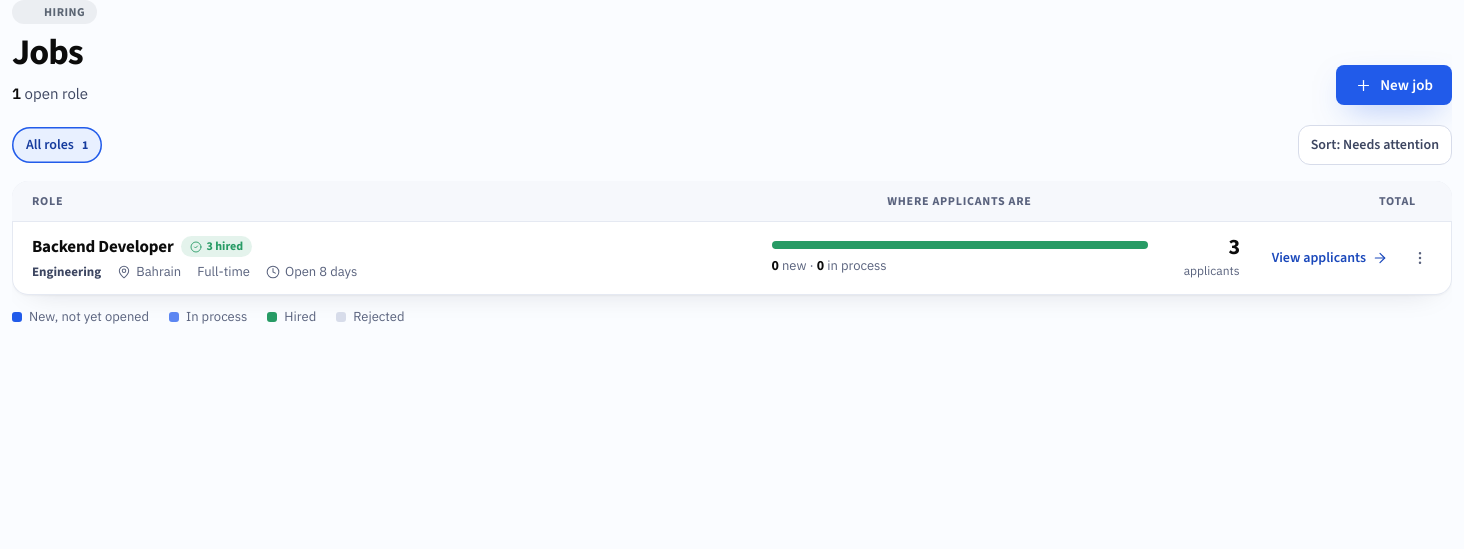
Scenario: JobsView › names every action instead of leaving six unlabelled icons
Press the mouse on the button named "Actions for Backend Developer" at [1420, 258], box x1=1404 y1=242 x2=1436 y2=274
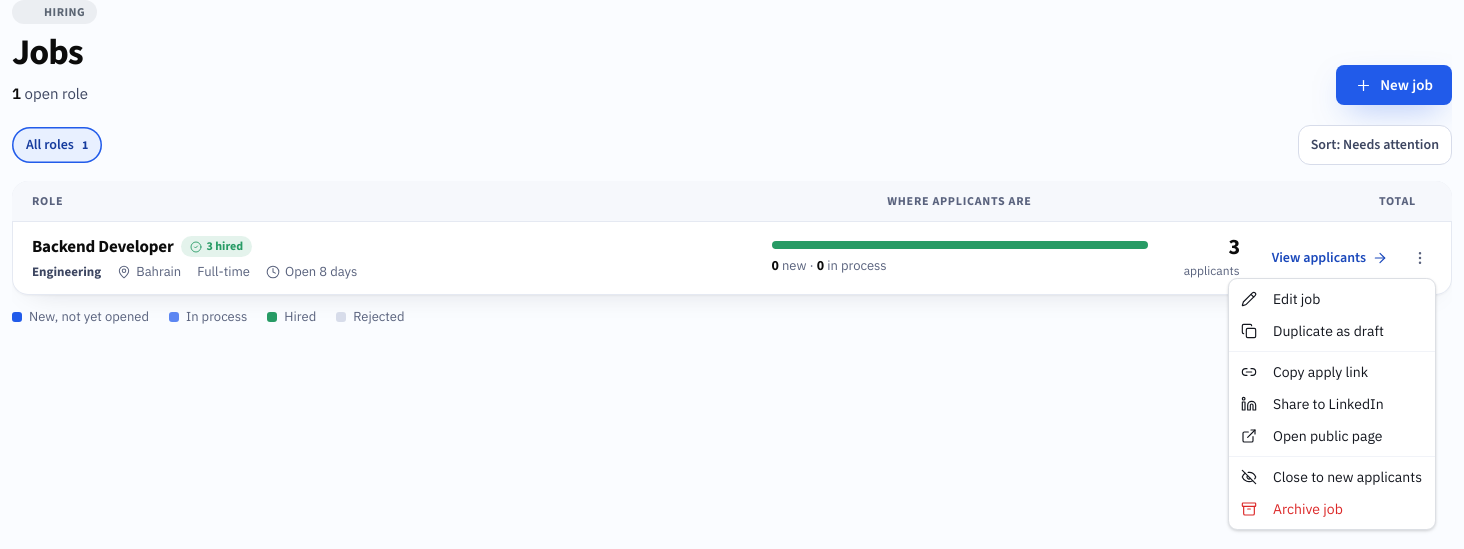
Result: the menu item "Edit job" is shown at x1=1241 y1=290 x2=1320 y2=308
Result: the menu item "Duplicate as draft" is shown at x1=1241 y1=322 x2=1384 y2=340
Result: the menu item "Copy apply link" is shown at x1=1241 y1=363 x2=1368 y2=381
